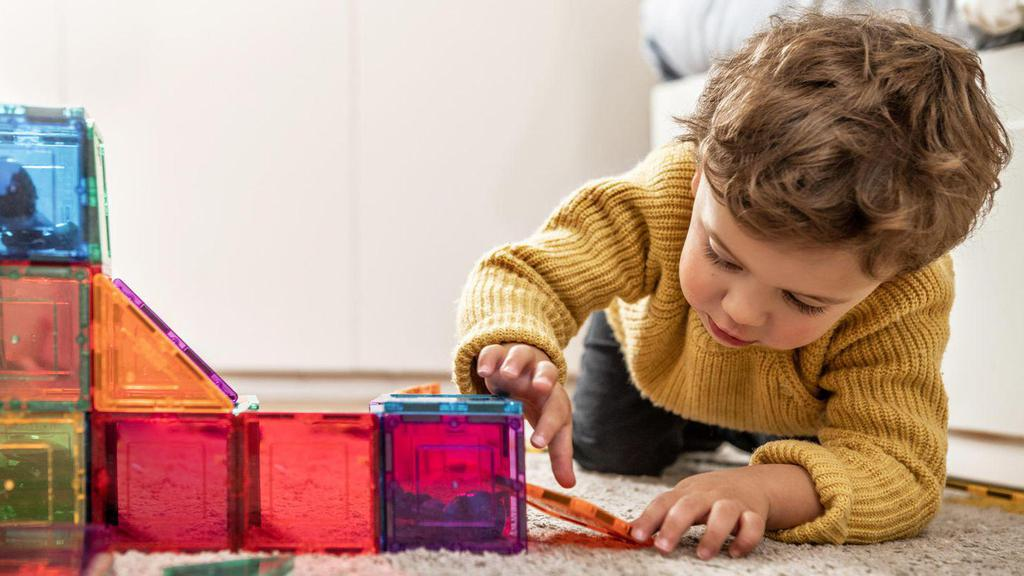child: (412, 6, 1006, 556)
